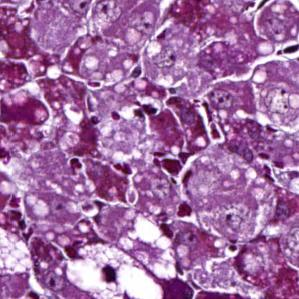ballooning: (91, 202, 180, 283), (64, 241, 165, 296)
